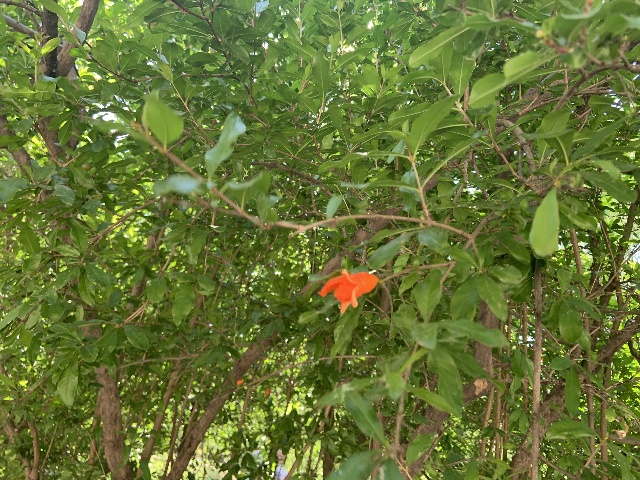flower: (318, 267, 379, 313)
